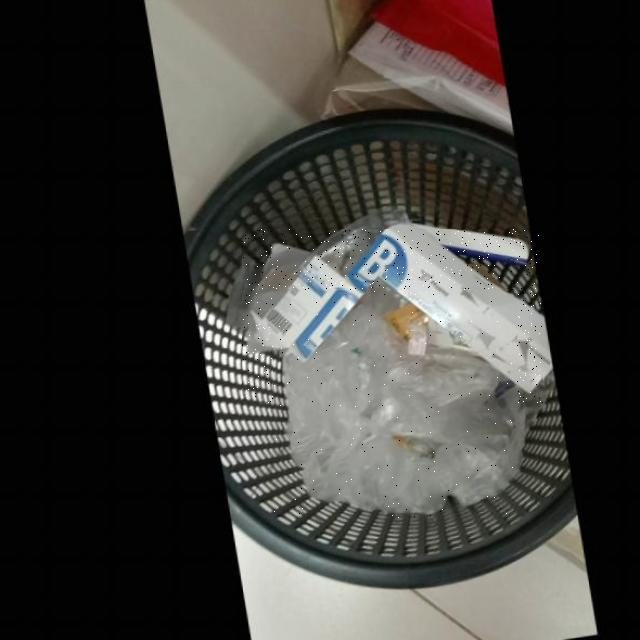paper: (243, 230, 543, 403)
plastic: (273, 290, 517, 521)
